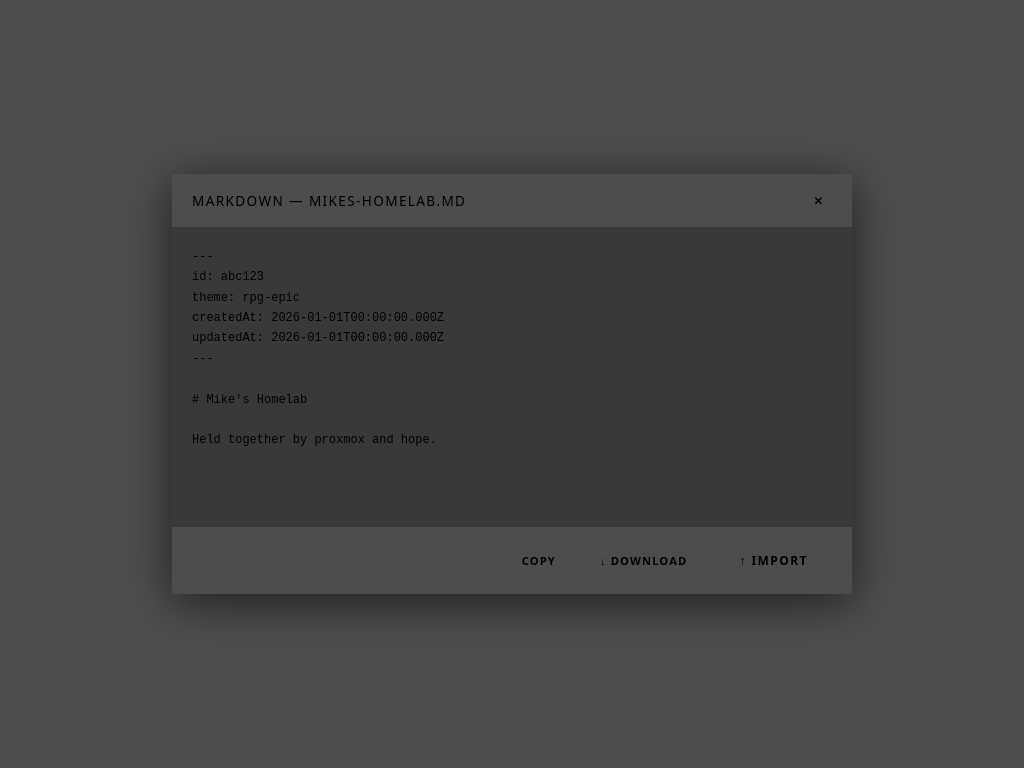
Scenario: <MarkdownPanel> › error is cleared when textarea content changes
The image size is (1024, 768).
Click the button "↑ Import" at (774, 561), box [715,541,832,580]
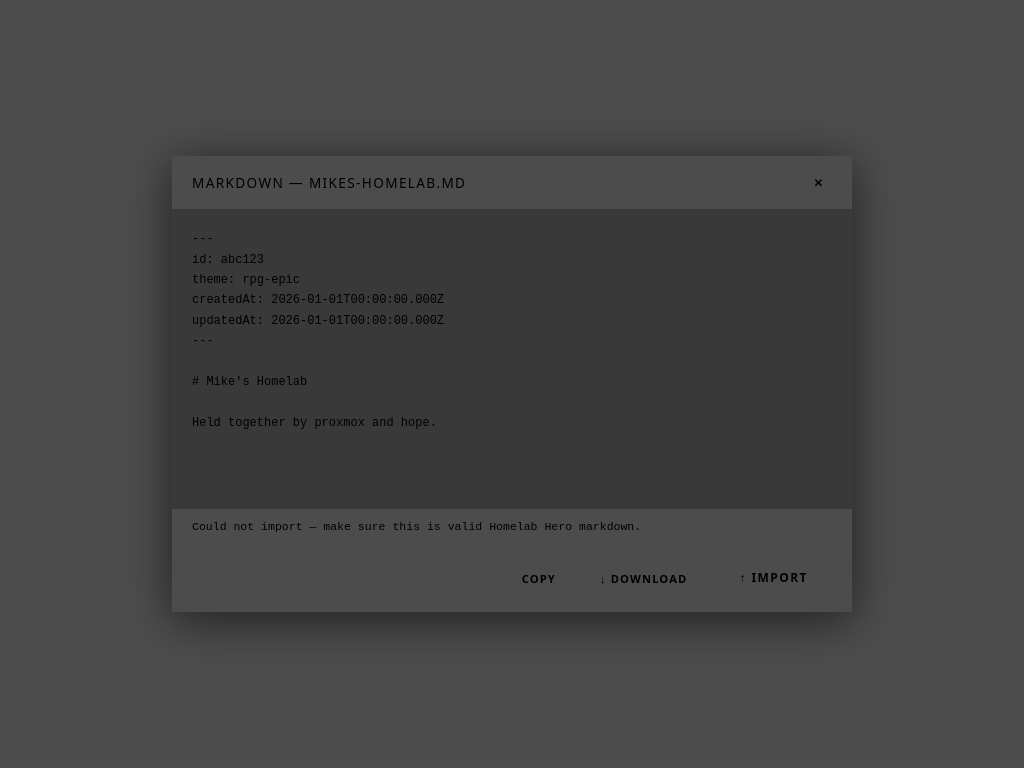
Expected: the message "Could not import — make sure this is valid Homelab Hero markdown." is shown, [192,520,641,533]
Replace the text in the text box with "# Fixed" at (512, 359), box [172,209,852,509]
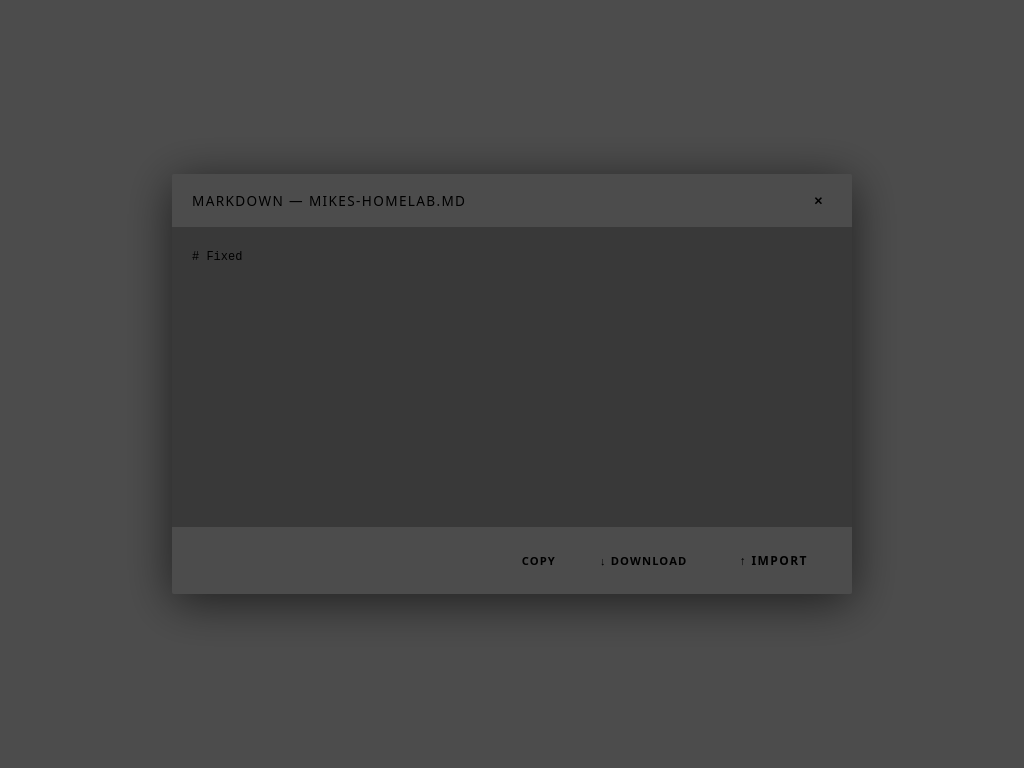
Expected: the message "Could not import — make sure this is valid Homelab Hero markdown." is gone
